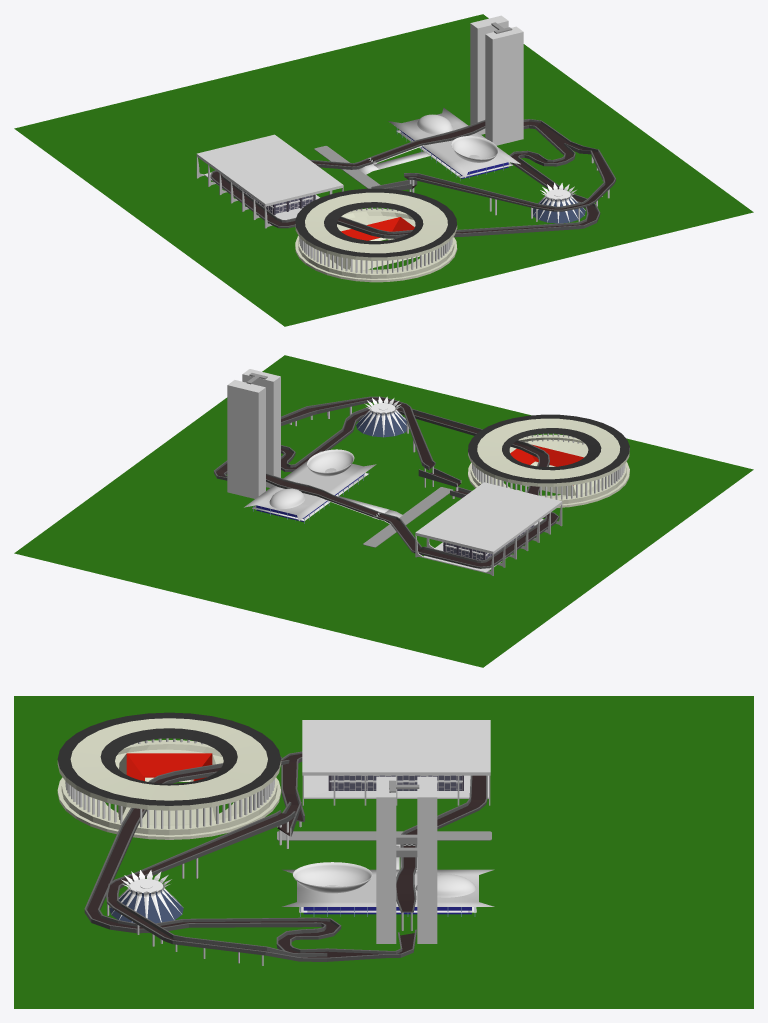
The model's file is Brasilia.fbx.
3 renders of one model, top to bottom at view 1: azimuth 30°, elevation 25°; view 2: azimuth 150°, elevation 25°; view 3: azimuth 270°, elevation 25°, orthographic. The views are drawn at different scales.
Visible parts, largest first — view 1: Plane, pILATRAS, Box003, Plane.001, Cube, Catedral; view 2: Plane, Box003, pILATRAS, Plane.001, Cube, Catedral; view 3: Plane, pILATRAS, Box003, Plane.001, Cube, Catedral.
Part boxes in pixels (x1,y1,x2,y2): Plane: (14, 14, 753, 326); pILATRAS: (295, 188, 457, 282); Box003: (314, 15, 523, 188); Plane.001: (210, 119, 615, 238); Cube: (196, 134, 343, 228); Catedral: (533, 183, 585, 223); Plane: (14, 355, 753, 667); Box003: (227, 369, 453, 547); pILATRAS: (468, 414, 629, 507); Plane.001: (214, 396, 559, 568); Cube: (415, 482, 562, 575); Catedral: (356, 396, 409, 437); Plane: (14, 696, 753, 1008); pILATRAS: (57, 712, 281, 839); Box003: (277, 776, 494, 943); Plane.001: (84, 751, 487, 961); Cube: (302, 720, 490, 805); Catedral: (109, 870, 183, 923).
Size of the model in its own units: 2402 by 544 by 2402.
